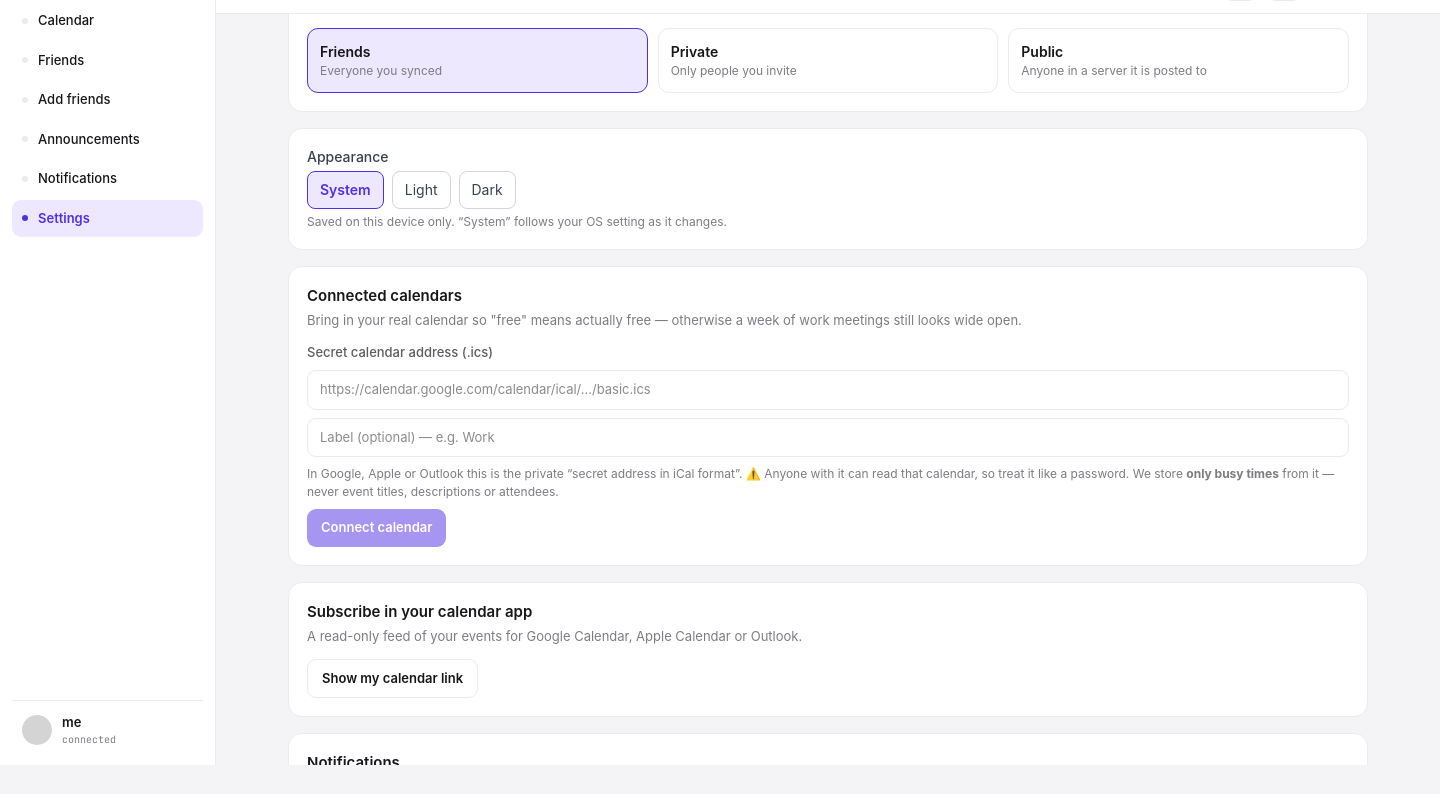
Test: settings page › connected calendars › connects a calendar and lists it
(page scrolled)
In the field labelled "Secret calendar address (.ics)": (828, 390) 307,370 -> 1349,410, type "https://example.com/a.ics"
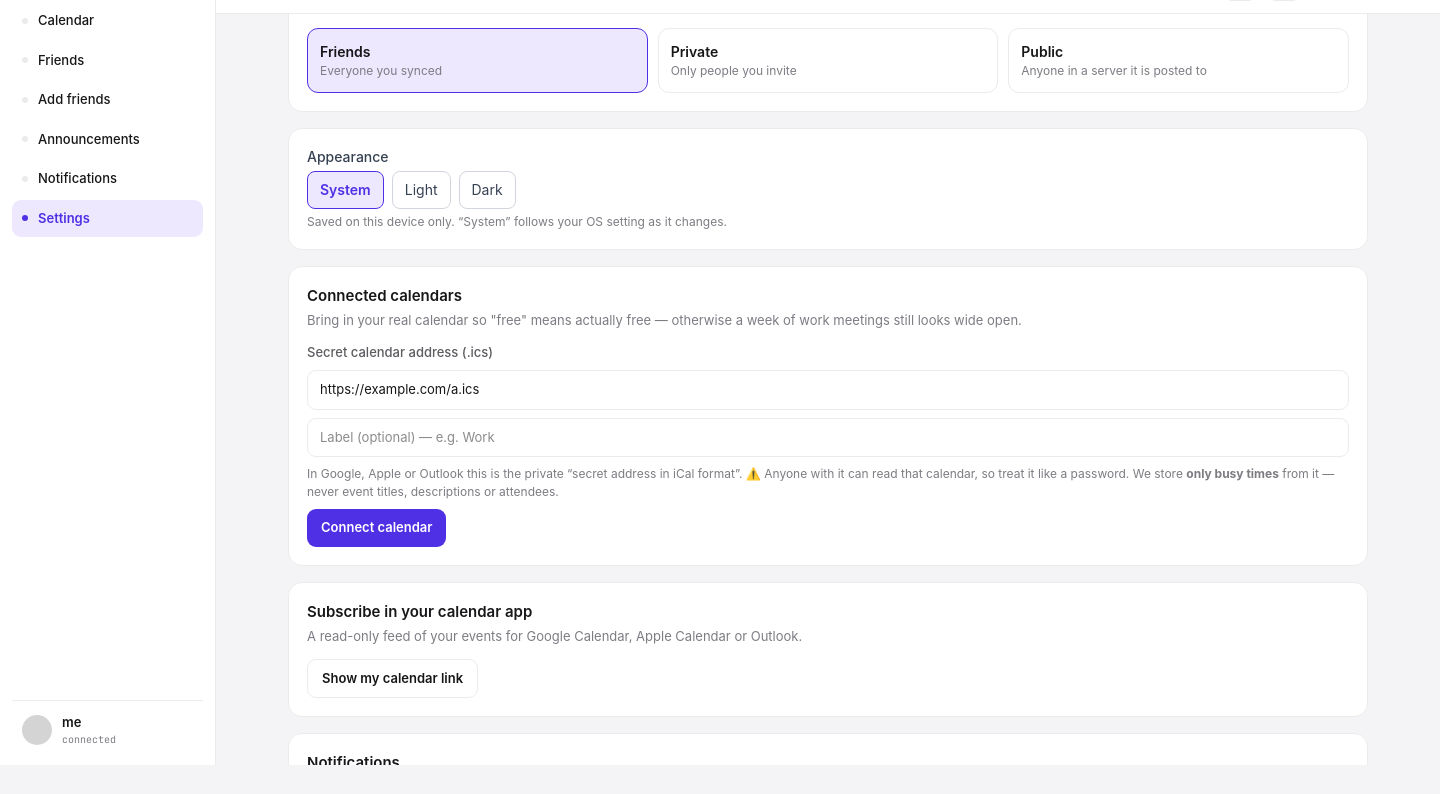
In the field named "Calendar label": (828, 437) 307,418 -> 1349,457, type "Work"
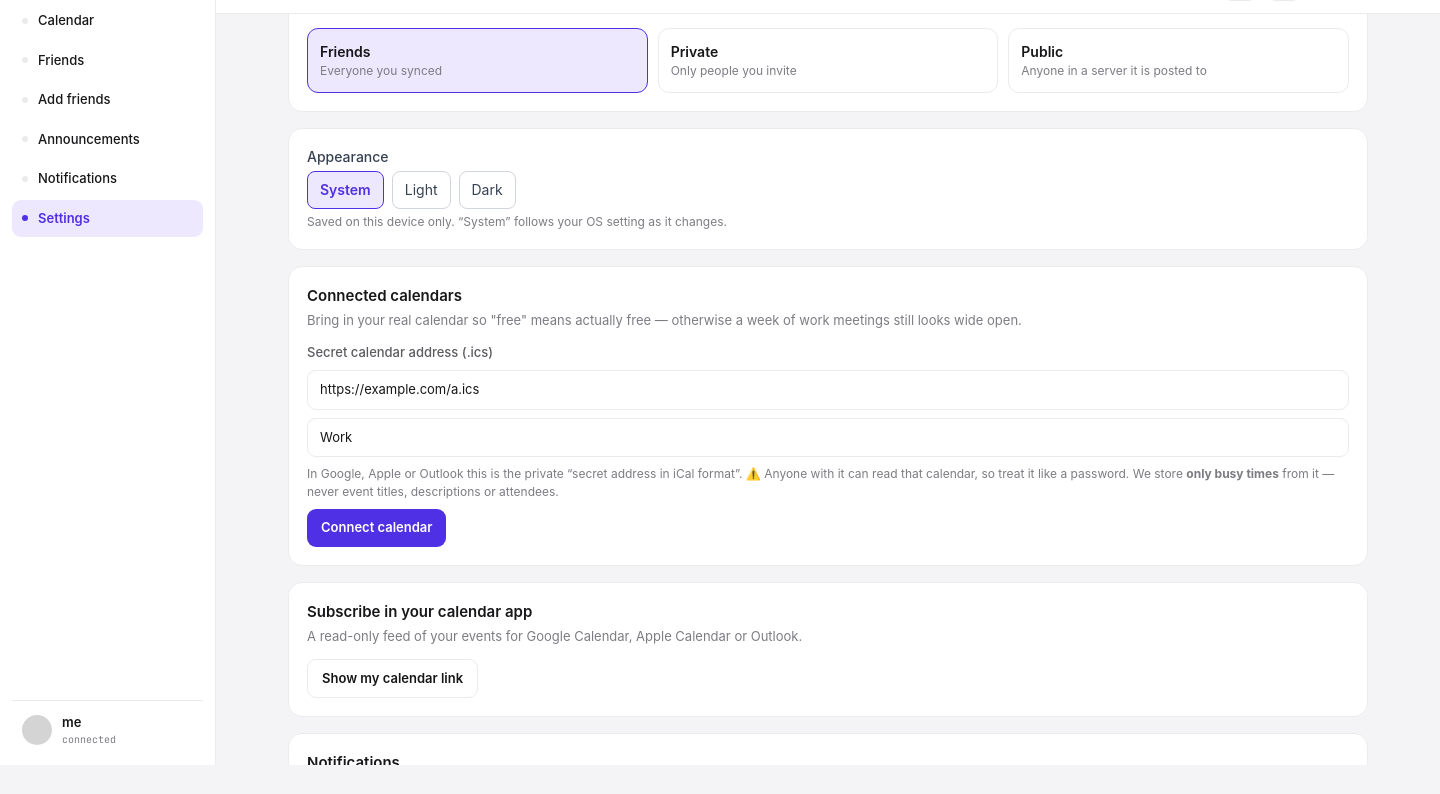
Click the button "Connect calendar": (377, 528) 307,509 -> 446,546
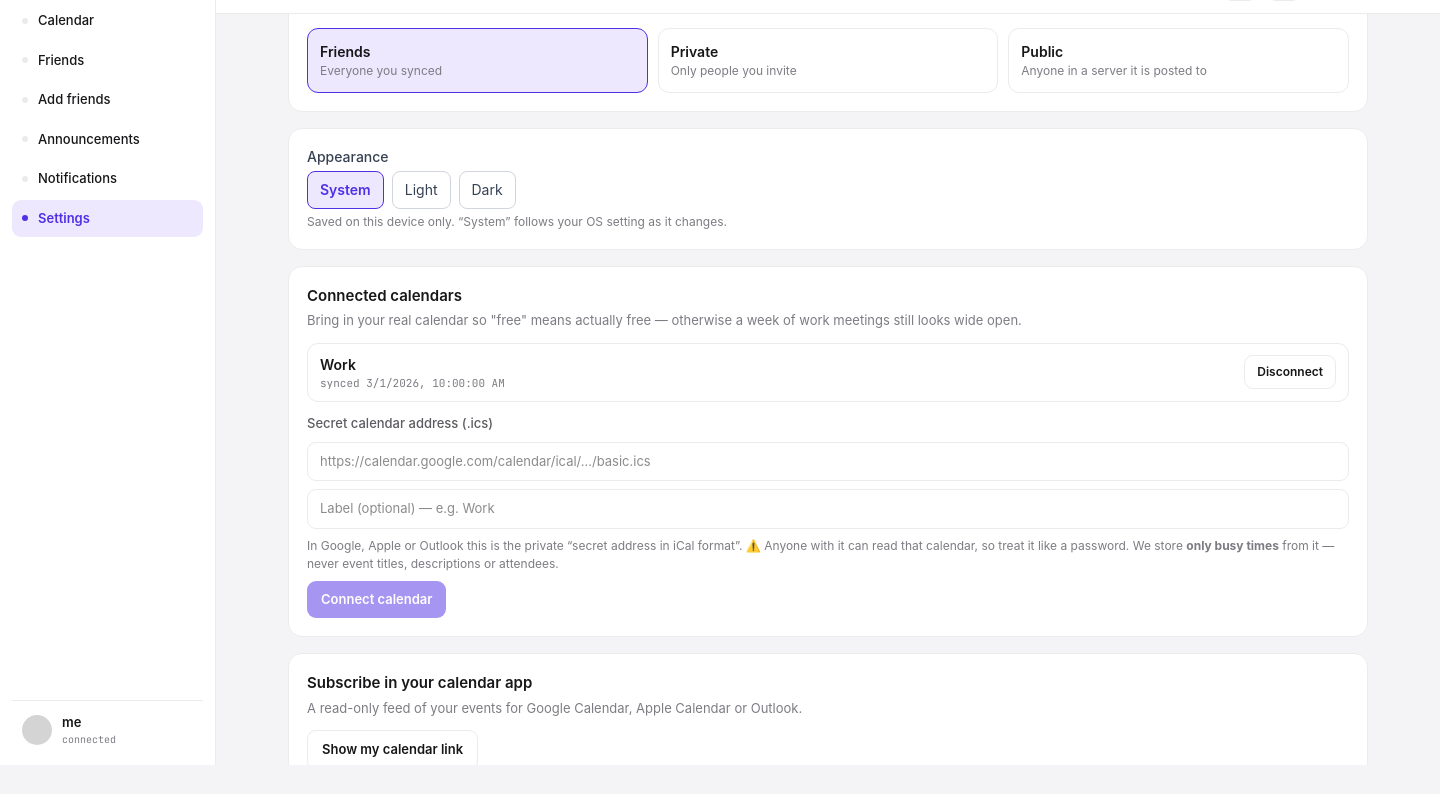
Now the text "Work" is shown, box 320,356 -> 356,372
